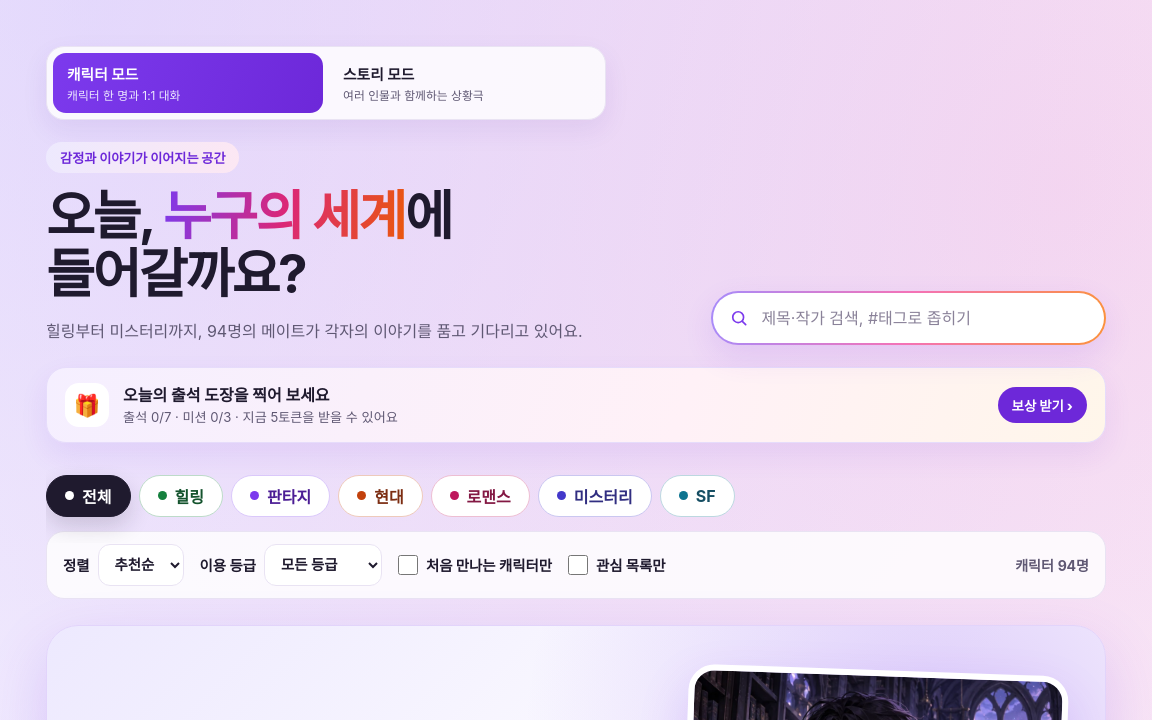
Test case: 캐릭터 탐색 › 다 적은 #태그는 띄어쓰면 칩이 되고, 없는 태그는 알려 주며, 조건 지우기로 태그도 함께 지운다
Type "#힐링 " into the search field named "제목과 작가 검색" at (909, 318), box [711,291,1106,345]
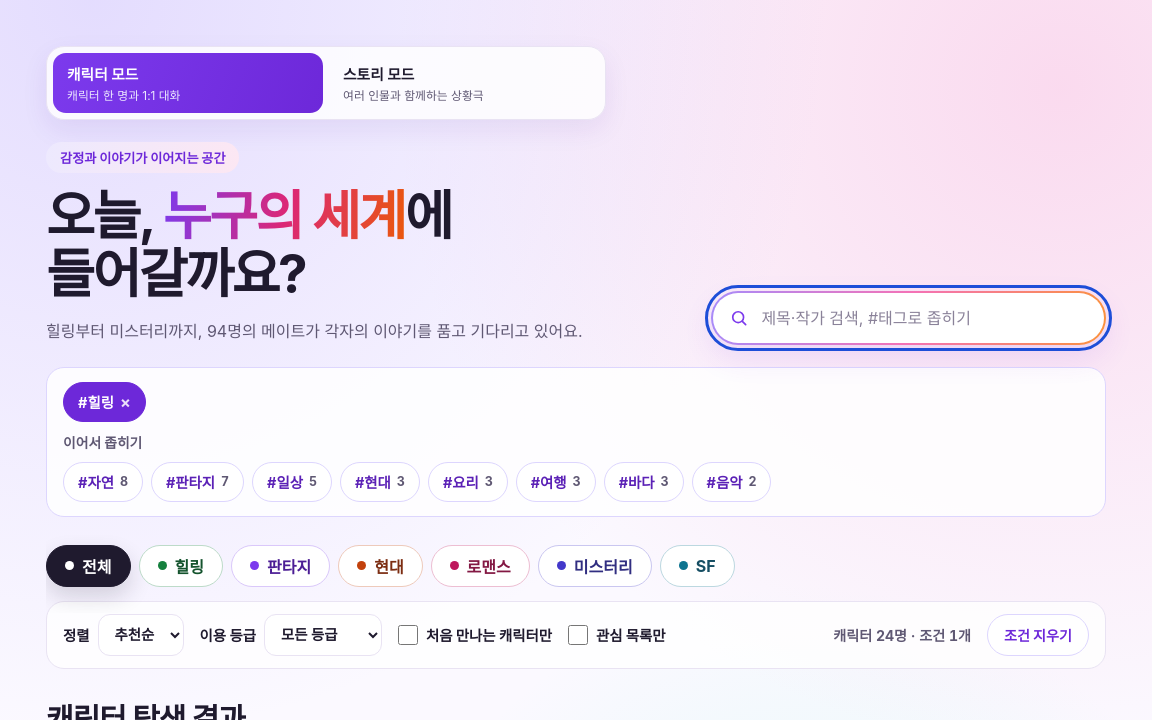
Now the button with aria-label "#힐링 태그 빼기" is shown, box [63,382,146,422]
Type "#ㅇㅅ" into the search field named "제목과 작가 검색" at (909, 318), box [711,291,1106,345]
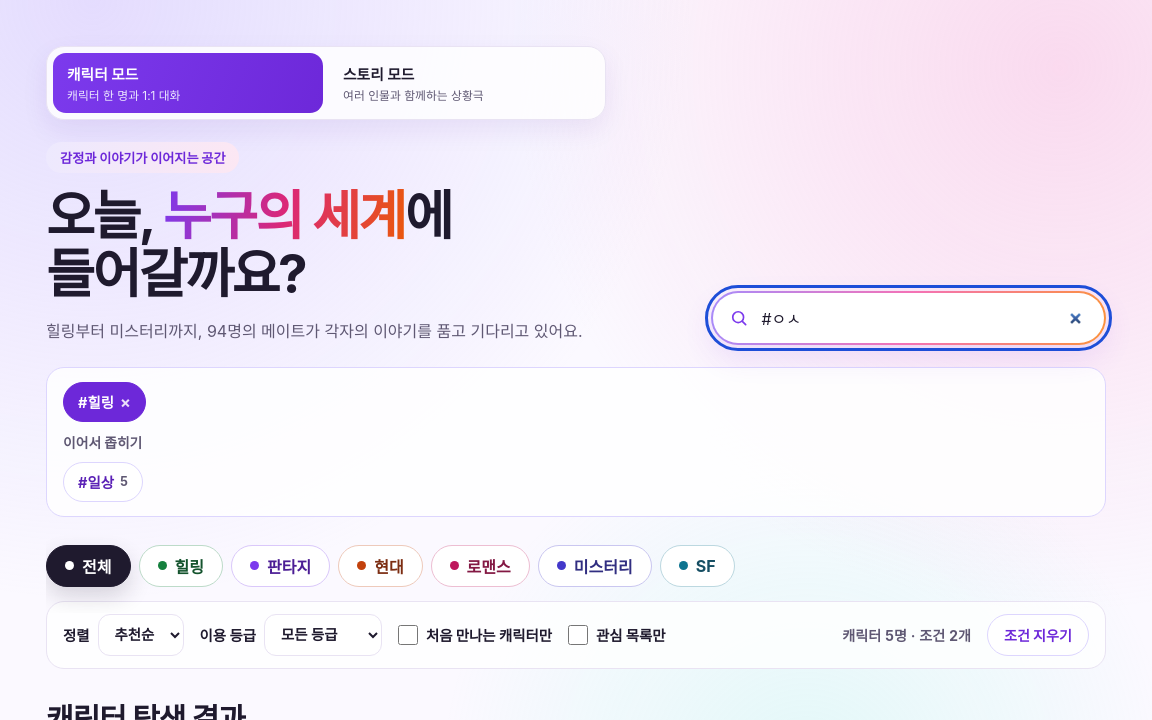
Now the button with aria-label "#일상 태그 더하기" is shown, box [63,462,143,502]
Replace the text in the search field named "제목과 작가 검색" with "#없는태그" at (909, 318), box [711,291,1106,345]
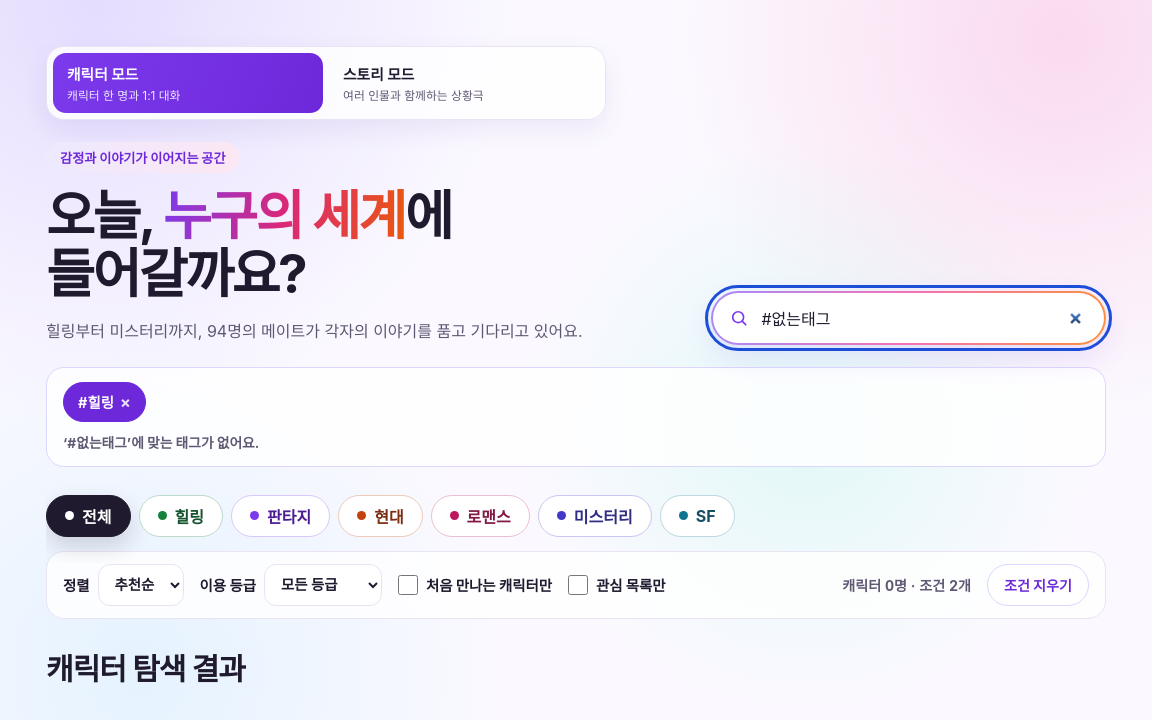
Now the message named "태그 안내" reads "‘#없는태그’에 맞는 태그가 없어요.", box [63,435,259,451]
Click the button "조건 지우기" at (1038, 585), box [987,564,1089,606]
(page scrolled)
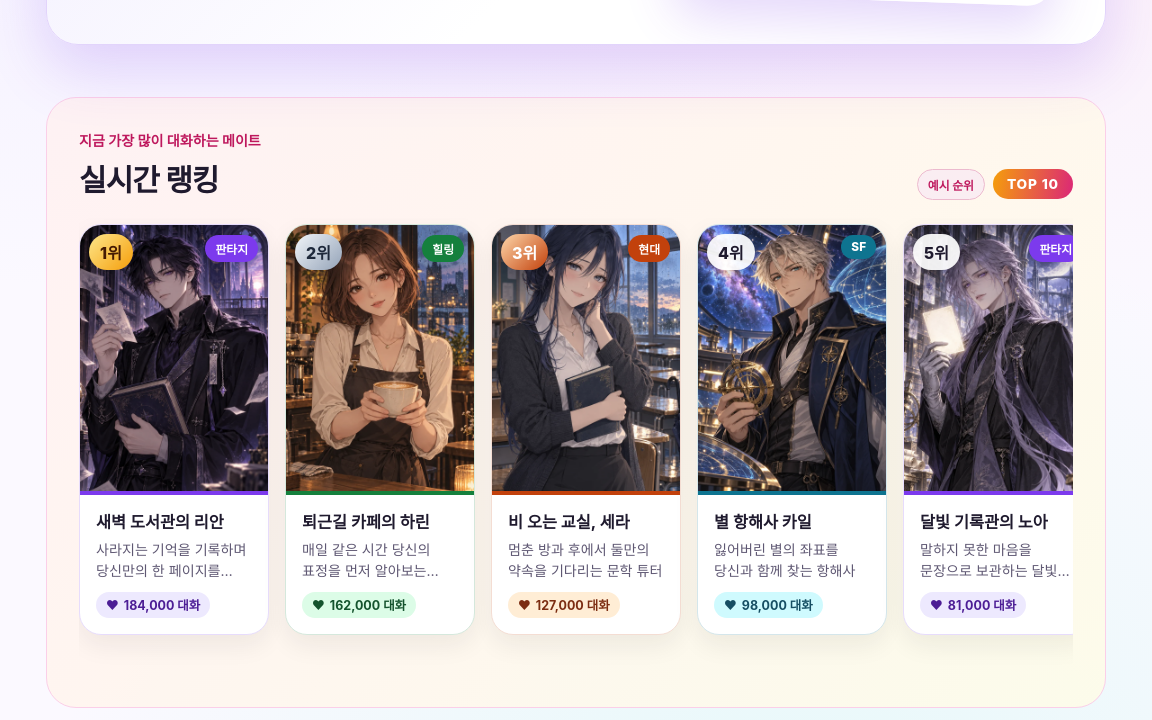
Expected: the element "태그로 좁히기" is not shown
Now the element "실시간 랭킹" is shown
